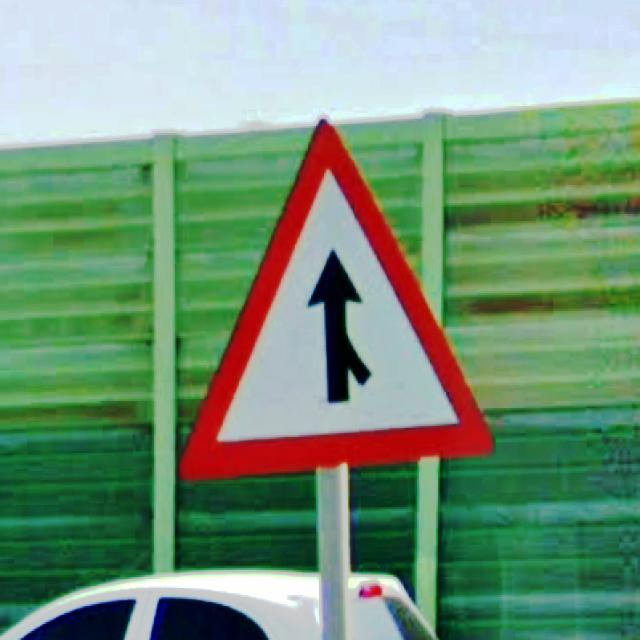rightmerge: (176, 118, 493, 476)
